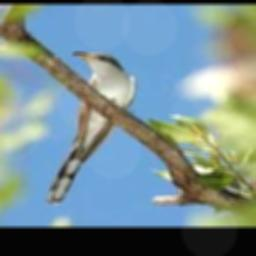Cuckoo: (47, 51, 136, 205)
